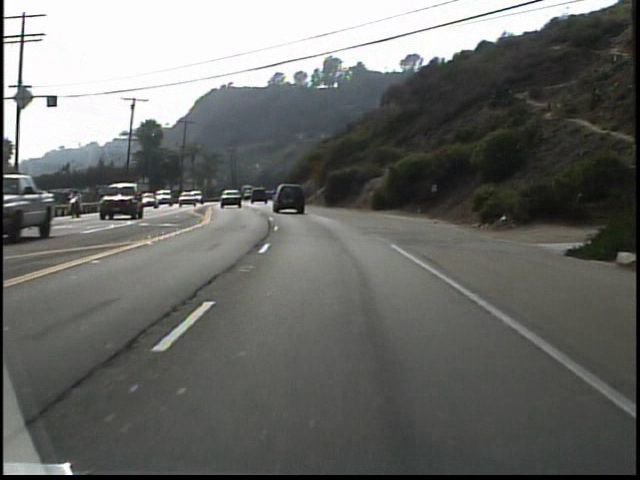person: (72, 189, 87, 222)
